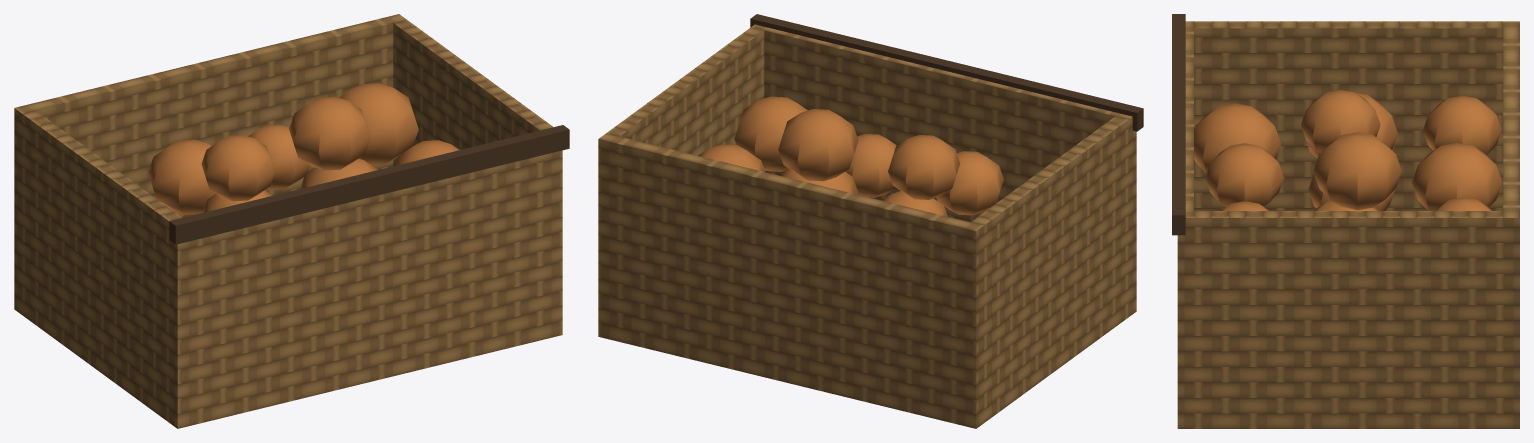
The model's file is tpl_dispensa_cesto_cipolle.glb.
3 views of the same model, side by side, from view 1: azimuth 30°, elevation 25°; view 2: azimuth 150°, elevation 25°; view 3: azimuth 270°, elevation 25° (orthographic). The views are drawn at different scales.
Visible parts, largest first — view 1: tpl_dispensa_cesto_cipolle; view 2: tpl_dispensa_cesto_cipolle; view 3: tpl_dispensa_cesto_cipolle.
Boxes of the visible parts, <box> form: tpl_dispensa_cesto_cipolle: <box>14,14,569,428</box>; tpl_dispensa_cesto_cipolle: <box>598,14,1143,428</box>; tpl_dispensa_cesto_cipolle: <box>1172,14,1519,428</box>.
Bounding box in the file's own units: 0.348 × 0.1747 × 0.254.
3 materials, 1 textured.
